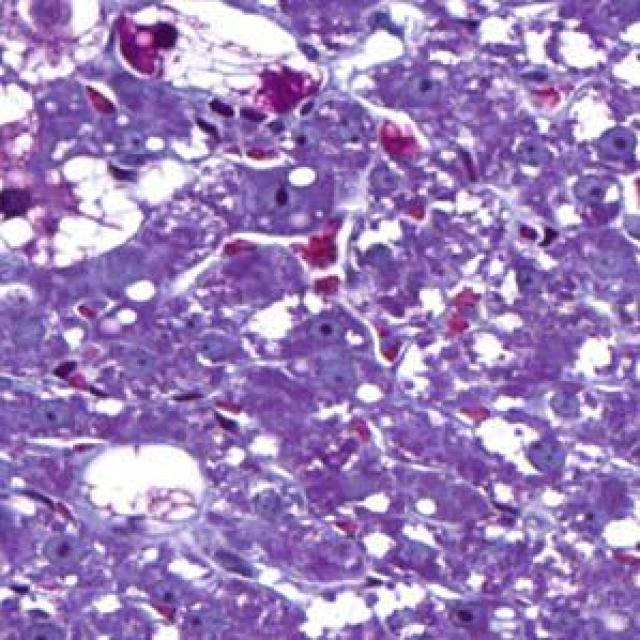ballooning: (107, 7, 323, 126), (13, 133, 145, 276)
